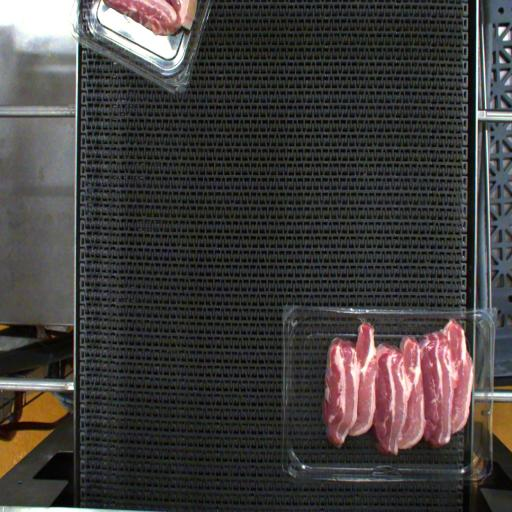packaging-error: (351, 306, 376, 334)
